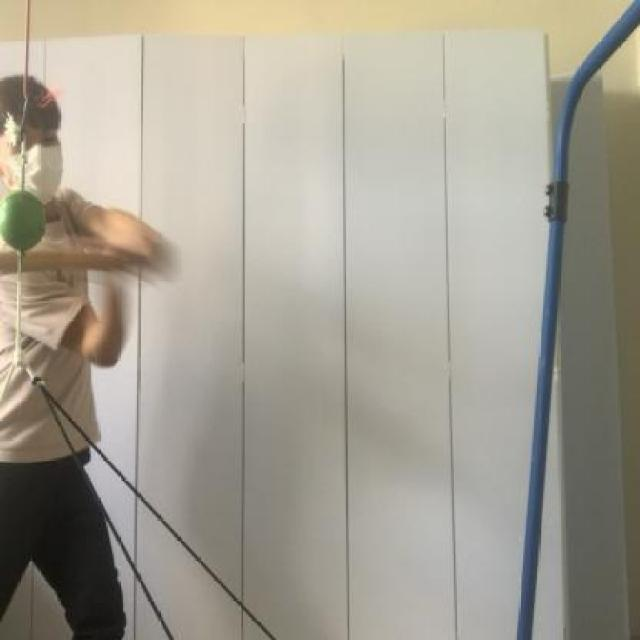baseball: (0, 178, 58, 269)
